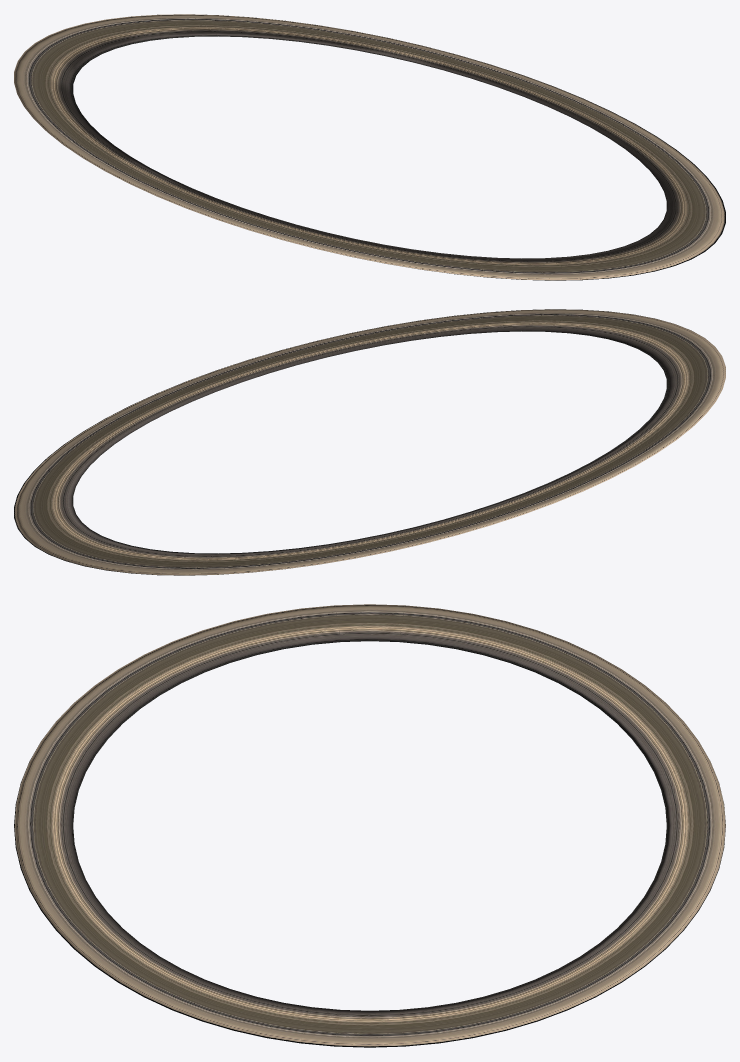
Rendered from SaturnRings.obj.
3 views of the same model, one above another, from view 1: azimuth 30°, elevation 25°; view 2: azimuth 150°, elevation 25°; view 3: azimuth 270°, elevation 25° (orthographic). The views are drawn at different scales.
Parts seen in each view (by area): view 1: Circle_ring_0; view 2: Circle_ring_0; view 3: Circle_ring_0.
Boxes of the visible parts, x1=… form: Circle_ring_0: x1=14, y1=14, x2=725, y2=280; Circle_ring_0: x1=14, y1=309, x2=725, y2=575; Circle_ring_0: x1=14, y1=604, x2=725, y2=1047.
Size of the model in its own units: 139 by 33.3 by 142.
